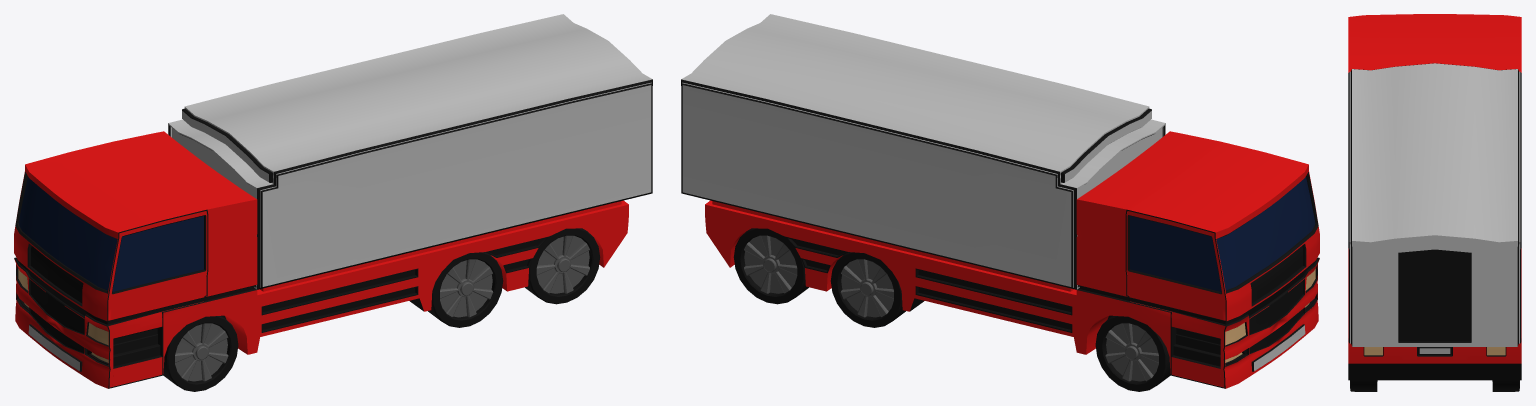
File: fura1.FBX
3 renders of one model, left to right at view 1: azimuth 30°, elevation 25°; view 2: azimuth 150°, elevation 25°; view 3: azimuth 270°, elevation 25°, orthographic. The views are drawn at different scales.
Visible parts, largest first — view 1: Object002; view 2: Object002; view 3: Object002.
Boxes of the visible parts, x1=… form: Object002: x1=14, y1=14, x2=652, y2=391; Object002: x1=681, y1=14, x2=1319, y2=391; Object002: x1=1348, y1=14, x2=1521, y2=391.
Bounding box in the file's own units: 114 × 33.09 × 40.96.
